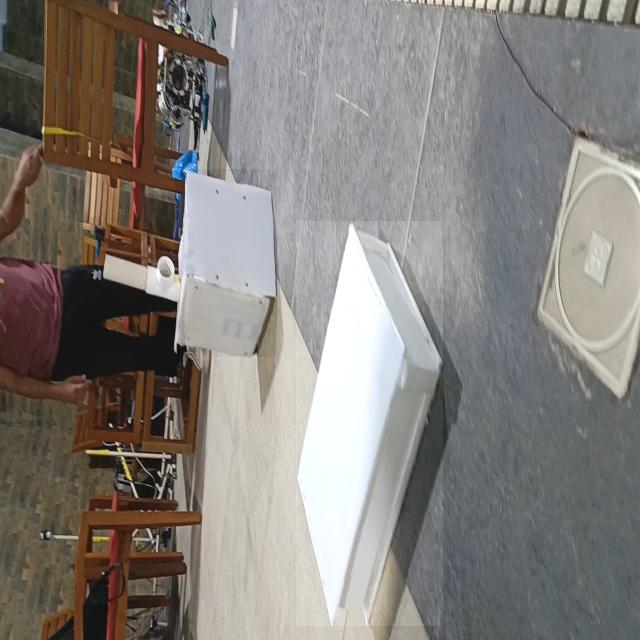Cube: (175, 169, 277, 357)
Cuboid: (296, 221, 443, 626)
